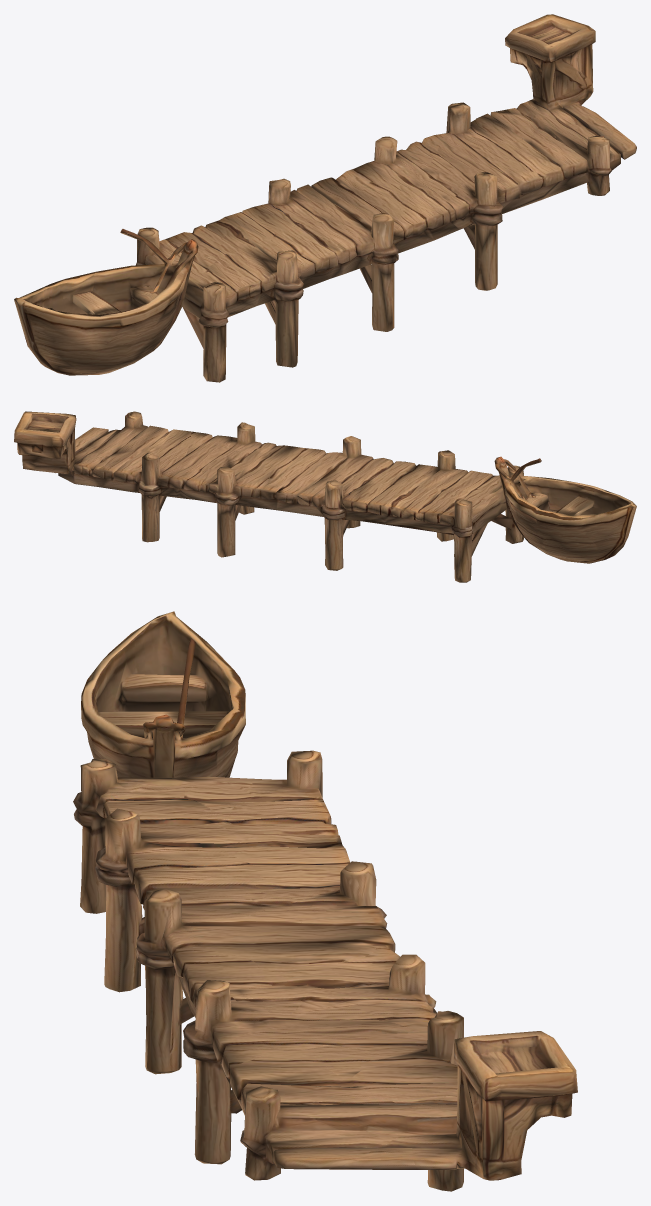
File: bld_dock.glb
The picture shows the model from 3 angles, top to bottom: view 1: azimuth 30°, elevation 25°; view 2: azimuth 150°, elevation 25°; view 3: azimuth 270°, elevation 25°; orthographic projection. The views are drawn at different scales.
Parts seen in each view (by area): view 1: tripo_node_b9634c59-5e26-44d3-87a5-6875ad20ffa8; view 2: tripo_node_b9634c59-5e26-44d3-87a5-6875ad20ffa8; view 3: tripo_node_b9634c59-5e26-44d3-87a5-6875ad20ffa8.
Boxes of the visible parts, x1,y1,x2,y2 form: tripo_node_b9634c59-5e26-44d3-87a5-6875ad20ffa8: (14, 14, 636, 382); tripo_node_b9634c59-5e26-44d3-87a5-6875ad20ffa8: (14, 411, 636, 582); tripo_node_b9634c59-5e26-44d3-87a5-6875ad20ffa8: (73, 611, 577, 1191).
Bounding box in the file's own units: 0.9993 × 0.2159 × 0.412.
Materials: 1 (1 with a texture image).
